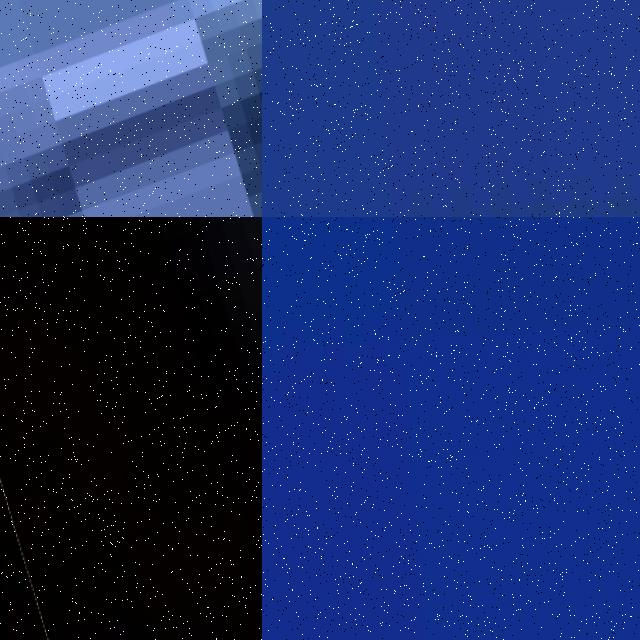0: (0, 0, 262, 217)
drone: (0, 217, 262, 640)
